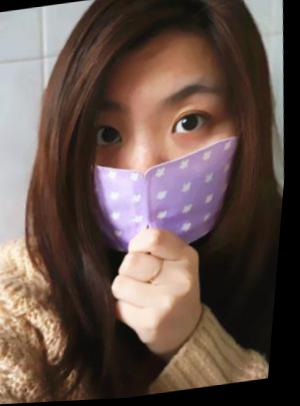WRONG: (66, 77, 252, 272)
